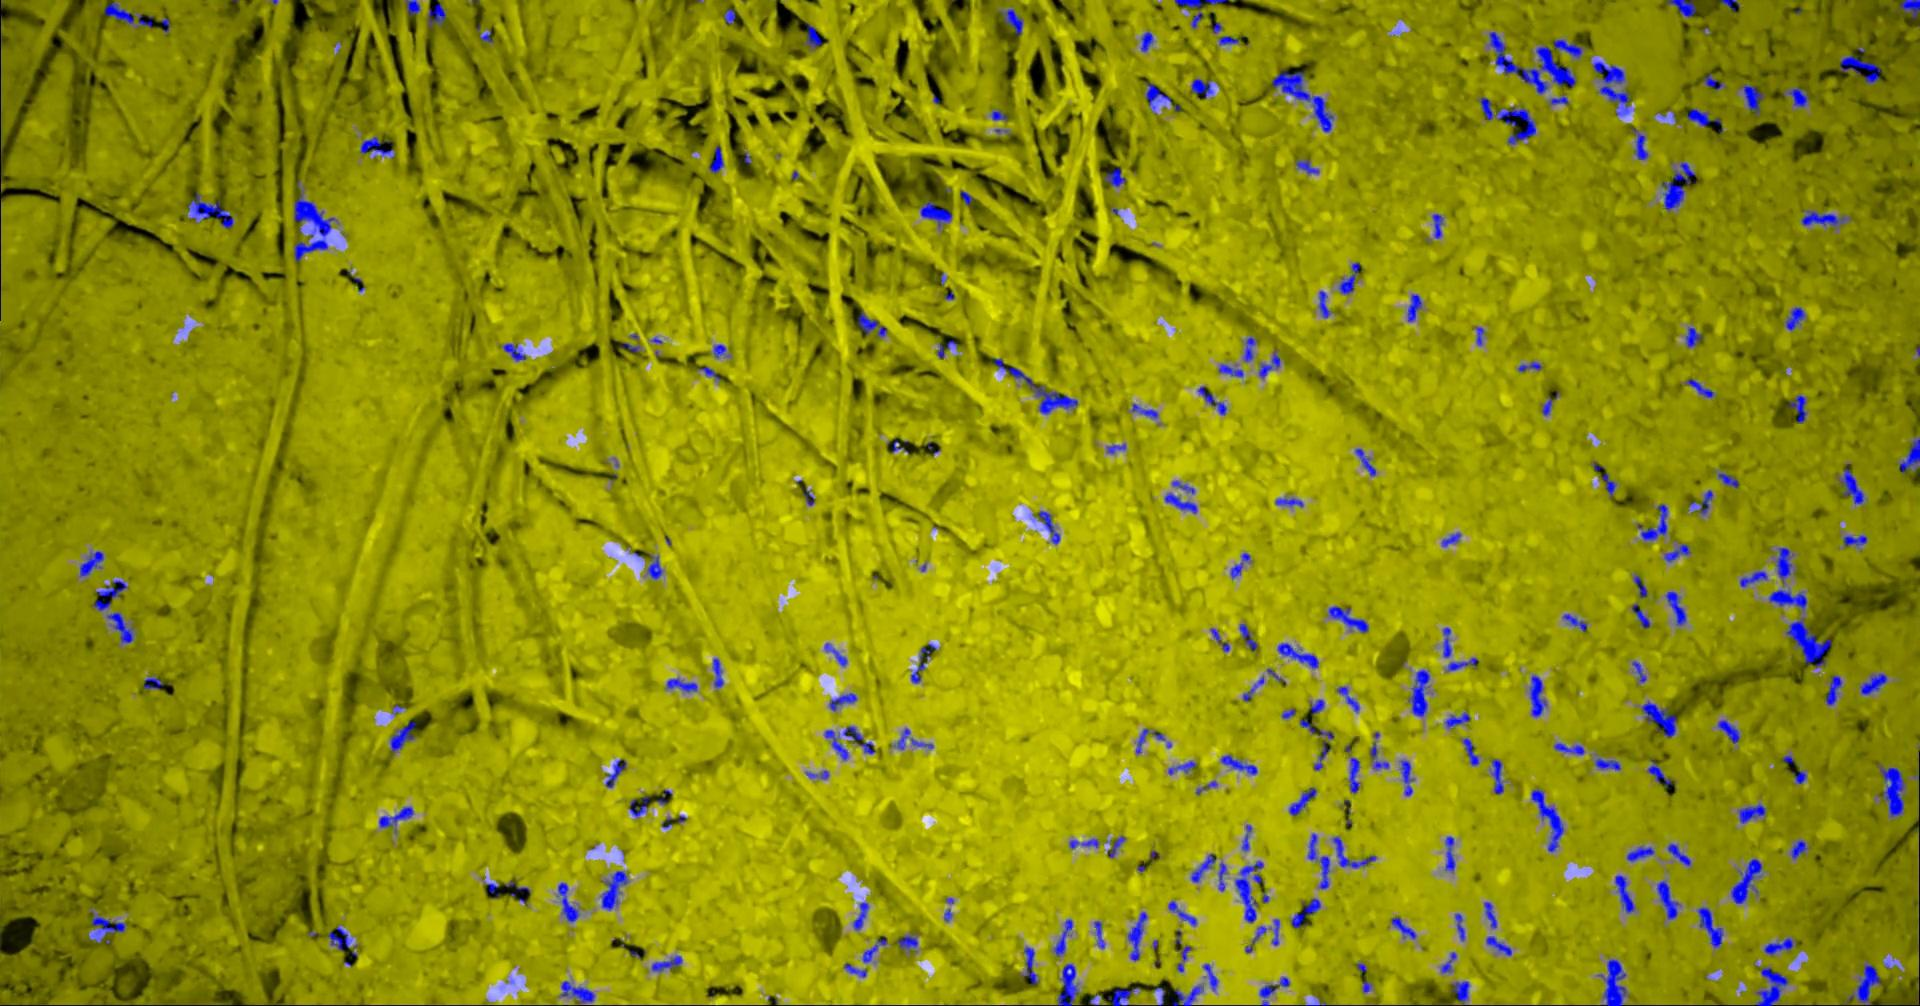ant: (993, 357, 1077, 414), (1271, 70, 1333, 131), (1478, 97, 1535, 144), (1785, 617, 1831, 667), (1531, 788, 1563, 851), (1592, 61, 1629, 116), (1234, 860, 1263, 922), (1299, 718, 1333, 768), (1660, 161, 1695, 210), (187, 191, 232, 227), (823, 727, 874, 760), (1730, 857, 1761, 903), (1845, 963, 1879, 1005), (1877, 766, 1905, 815), (1332, 836, 1375, 868), (103, 0, 152, 27), (1597, 958, 1625, 1005), (1641, 700, 1676, 737), (1755, 967, 1788, 1005), (1307, 833, 1330, 888), (88, 909, 124, 942), (1636, 503, 1667, 540), (1839, 55, 1879, 83), (1697, 906, 1723, 948), (91, 579, 127, 610), (1277, 641, 1318, 668), (1837, 464, 1864, 503), (1328, 606, 1368, 633), (601, 870, 627, 909), (910, 643, 935, 683), (1408, 669, 1429, 716), (1290, 898, 1321, 929), (1057, 963, 1078, 1005), (1258, 976, 1289, 1005), (919, 199, 951, 227), (1128, 911, 1145, 960), (557, 882, 579, 922), (1686, 108, 1722, 132), (105, 612, 133, 643), (1656, 880, 1677, 920), (378, 807, 413, 831), (1768, 589, 1806, 611), (1801, 210, 1850, 226), (390, 720, 415, 752), (1197, 386, 1225, 414), (1288, 788, 1316, 815), (857, 311, 888, 337), (1614, 875, 1634, 912), (1190, 854, 1217, 882), (1135, 728, 1164, 753), (560, 981, 594, 1002), (1898, 437, 1919, 473), (1338, 260, 1360, 293), (1037, 511, 1059, 544), (1167, 901, 1196, 925), (1220, 754, 1257, 774), (1053, 920, 1072, 956), (1665, 591, 1685, 625), (1529, 674, 1545, 716), (1175, 929, 1191, 970), (1164, 492, 1196, 513), (1647, 758, 1671, 786), (359, 136, 392, 156), (1145, 83, 1171, 108), (1742, 84, 1763, 116), (998, 8, 1022, 34), (862, 935, 886, 962), (604, 758, 626, 788), (1172, 984, 1203, 1005), (79, 550, 103, 575), (1336, 686, 1359, 713), (1775, 547, 1792, 584), (1021, 946, 1037, 983), (1354, 448, 1375, 476), (1107, 986, 1138, 1005), (1242, 674, 1263, 701), (1859, 673, 1887, 694), (1787, 394, 1806, 423), (824, 641, 847, 666), (1244, 926, 1266, 951), (1258, 351, 1279, 377), (1823, 674, 1841, 705), (1738, 803, 1765, 823), (1763, 937, 1793, 955), (1630, 127, 1647, 159), (1390, 916, 1415, 937), (1686, 379, 1713, 398), (1663, 542, 1690, 561), (1369, 742, 1388, 768), (1484, 936, 1511, 955), (828, 692, 856, 710), (1399, 760, 1413, 795), (1717, 720, 1738, 743), (1667, 843, 1690, 865), (328, 926, 349, 949), (427, 3, 446, 28), (1230, 553, 1250, 578), (1625, 845, 1655, 861), (1239, 622, 1257, 649), (1667, 0, 1695, 17), (1462, 737, 1478, 765), (1785, 306, 1804, 330), (1630, 603, 1650, 627), (1210, 627, 1229, 652), (1491, 758, 1503, 794), (1738, 570, 1768, 586), (651, 955, 681, 970), (665, 677, 697, 691), (852, 902, 869, 929), (1190, 77, 1211, 98), (1787, 86, 1808, 107), (1562, 614, 1586, 631), (1451, 981, 1469, 1005), (1103, 166, 1125, 185), (936, 339, 957, 358), (1448, 657, 1477, 671), (1167, 760, 1196, 774), (1131, 403, 1158, 418), (1444, 711, 1470, 727), (805, 23, 822, 47), (1407, 293, 1421, 321), (1175, 0, 1225, 8), (646, 554, 662, 579), (1553, 742, 1583, 754), (629, 795, 648, 815), (502, 343, 524, 359), (1109, 835, 1125, 857), (709, 145, 723, 171), (1203, 963, 1217, 989), (1295, 158, 1319, 173), (1898, 0, 1919, 18), (1703, 72, 1723, 90), (1685, 326, 1703, 347), (1349, 757, 1359, 793), (893, 728, 909, 749), (1483, 901, 1496, 929), (843, 962, 866, 977), (1603, 473, 1617, 497), (897, 935, 917, 951), (1440, 951, 1457, 972), (1717, 473, 1738, 488), (1218, 365, 1243, 377), (1699, 489, 1712, 514), (1318, 290, 1330, 318), (1445, 835, 1454, 870), (712, 657, 723, 687), (1242, 337, 1255, 361), (1594, 758, 1620, 770), (1633, 575, 1647, 597), (1630, 661, 1644, 682), (1069, 838, 1098, 848), (1171, 480, 1194, 493), (1843, 535, 1865, 547), (698, 366, 719, 380), (1093, 920, 1103, 948), (1241, 824, 1251, 851), (1790, 840, 1806, 857), (1454, 913, 1464, 940), (1441, 532, 1460, 546), (1443, 627, 1451, 657), (1309, 699, 1324, 715), (1432, 213, 1443, 238), (1517, 361, 1542, 371), (1275, 497, 1302, 506), (1140, 30, 1152, 51), (1719, 0, 1738, 11), (888, 439, 907, 451), (803, 486, 814, 506), (143, 677, 163, 688), (405, 0, 419, 15), (1218, 862, 1225, 890), (805, 770, 828, 779), (723, 8, 735, 23), (1549, 94, 1568, 104), (1106, 443, 1125, 453), (1790, 770, 1806, 782), (1271, 920, 1279, 945), (1218, 36, 1238, 44), (1542, 398, 1552, 415), (959, 191, 971, 205), (1476, 326, 1484, 345), (990, 109, 1007, 119), (712, 344, 725, 357)
